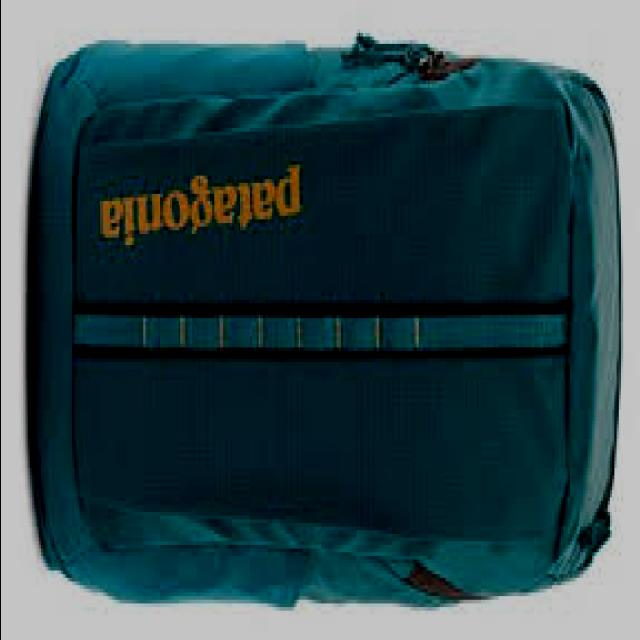backpack: (30, 34, 626, 612)
